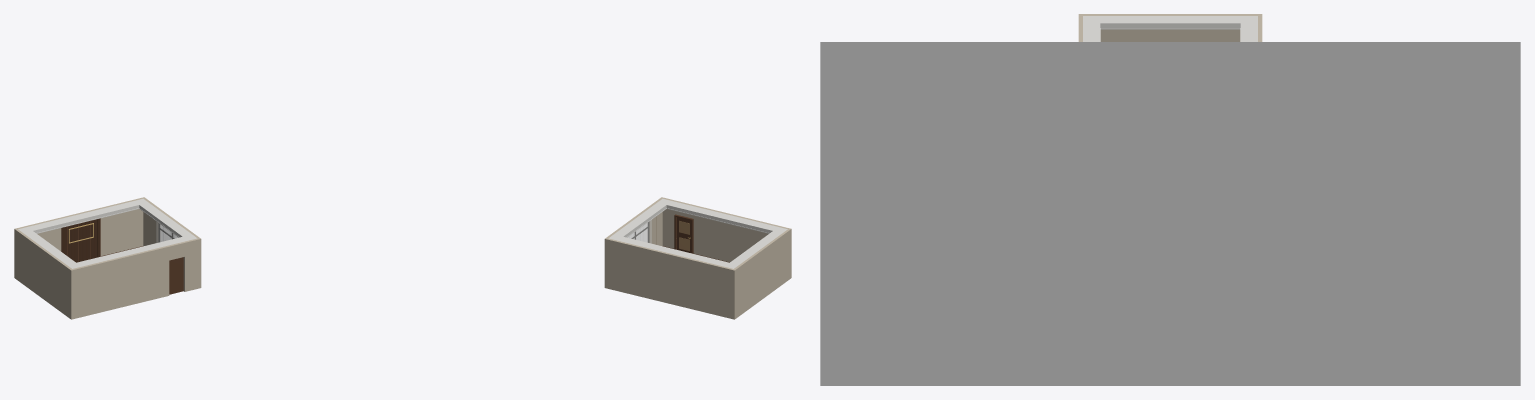
The model's file is bgd_phong.glb.
The picture shows the model from 3 angles, left to right: view 1: azimuth 30°, elevation 25°; view 2: azimuth 150°, elevation 25°; view 3: azimuth 270°, elevation 25°; orthographic projection. The views are drawn at different scales.
Visible parts, largest first — view 1: bgd_phong; view 2: bgd_phong; view 3: bgd_phong.
Part boxes in pixels (left/top/right/bottom): bgd_phong: left=14, top=197, right=201, bottom=319; bgd_phong: left=604, top=197, right=791, bottom=319; bgd_phong: left=820, top=14, right=1520, bottom=385.
Bounding box in the file's own units: 15.15 × 13 × 24.
